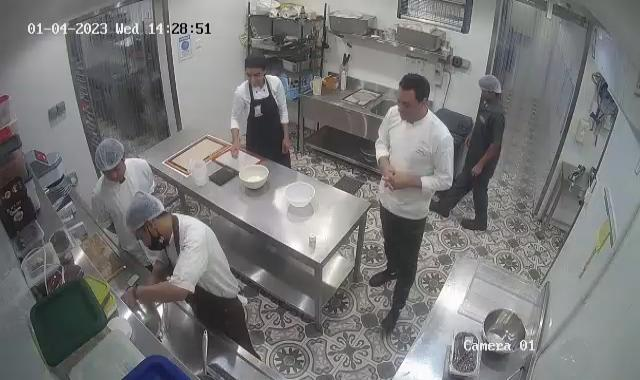hairnet: (124, 194, 166, 237), (95, 136, 125, 180), (478, 74, 506, 98)
no_hairnet: (397, 73, 430, 118), (244, 53, 268, 80)
